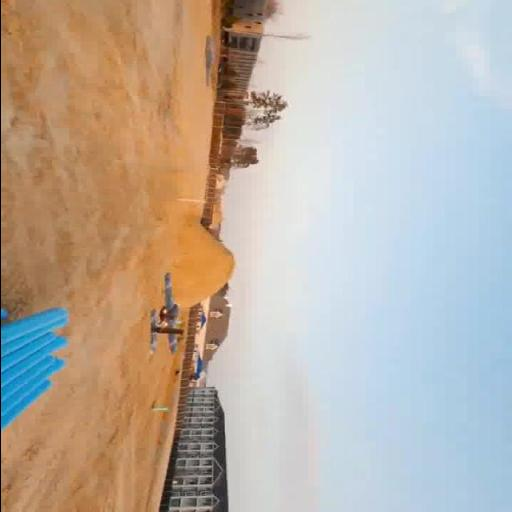uav: (134, 270, 192, 356)
